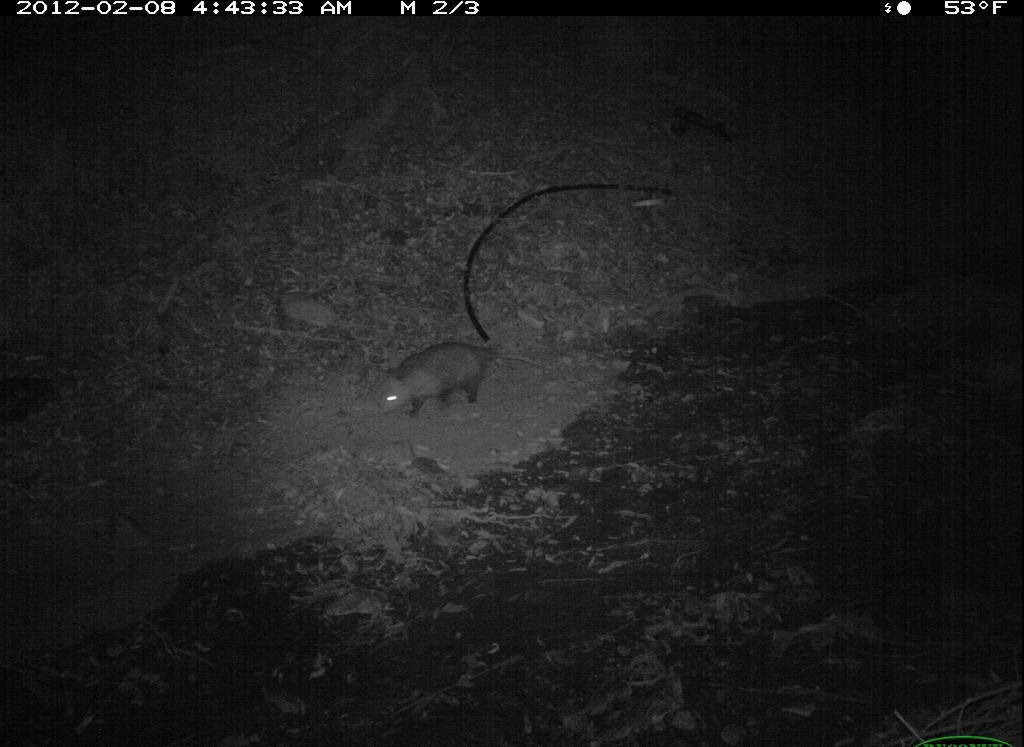opossum: (373, 338, 553, 424)
